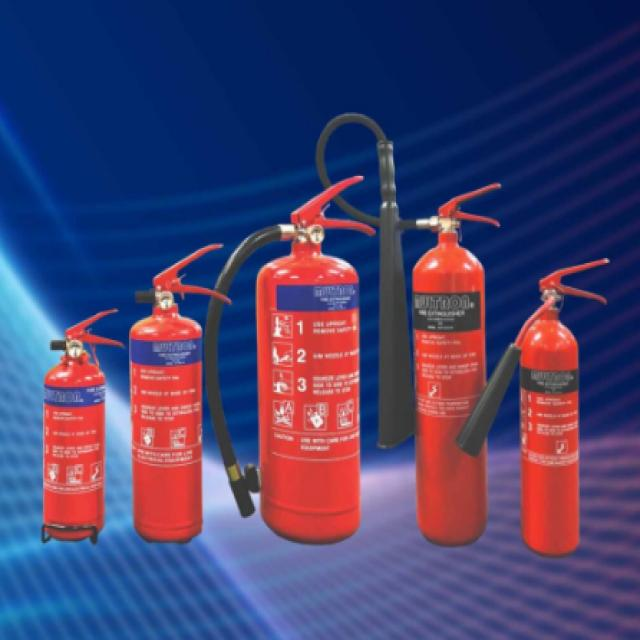extinguisher-helmet: (37, 303, 115, 555)
